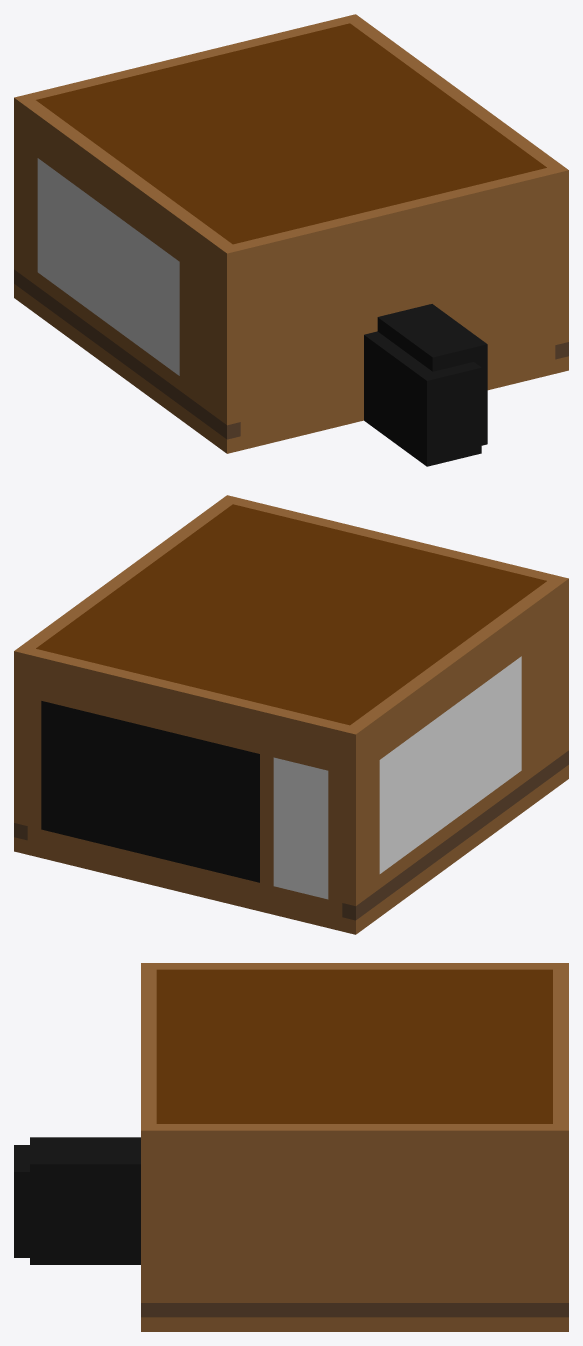
Rendered from TheoryRoom.obj.
The picture shows the model from 3 angles, top to bottom: view 1: azimuth 30°, elevation 25°; view 2: azimuth 150°, elevation 25°; view 3: azimuth 270°, elevation 25°; orthographic projection.
Bounding box in the file's own units: 2.5 × 1.4 × 3.5.
Materials: 1 (1 with a texture image).
